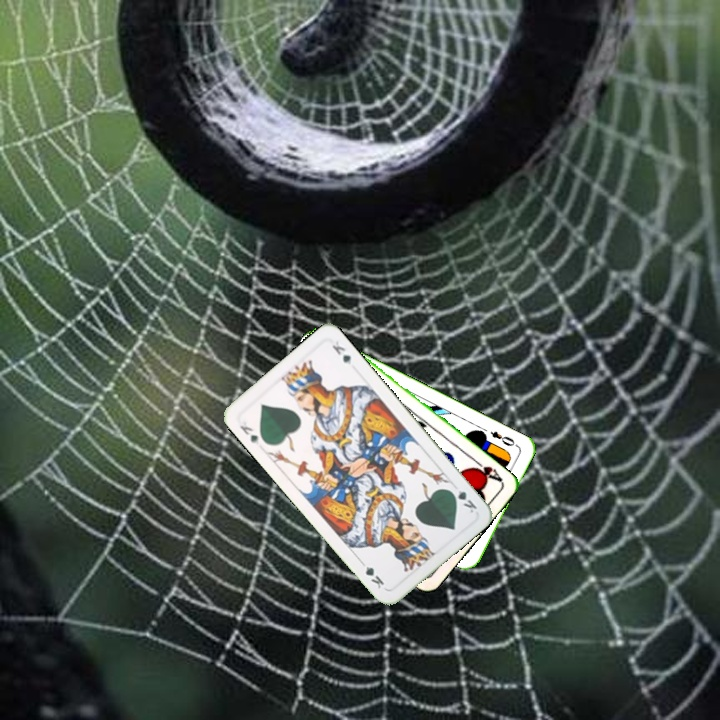EO: (486, 427, 517, 449)
GK: (445, 485, 480, 515), (236, 421, 262, 447)
HA: (468, 455, 505, 485)
